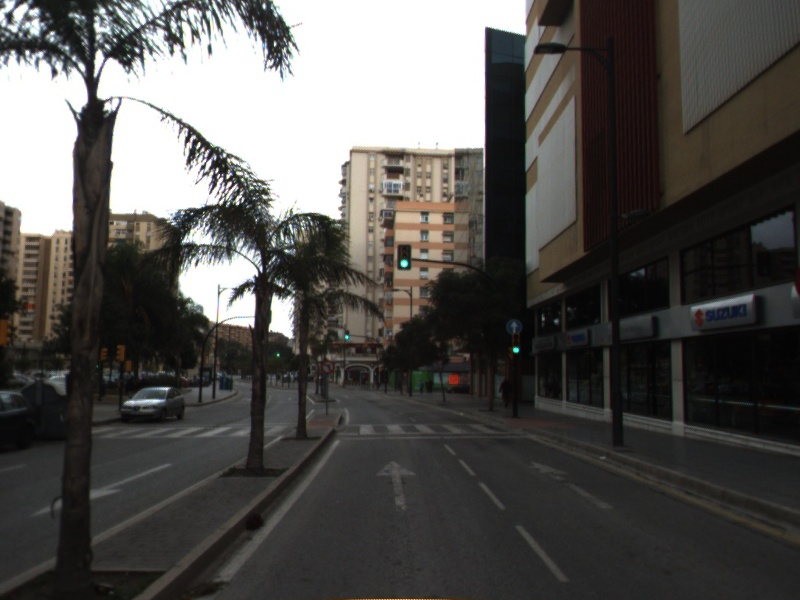STRAIGHT: (527, 458, 617, 510), (373, 458, 419, 515)
